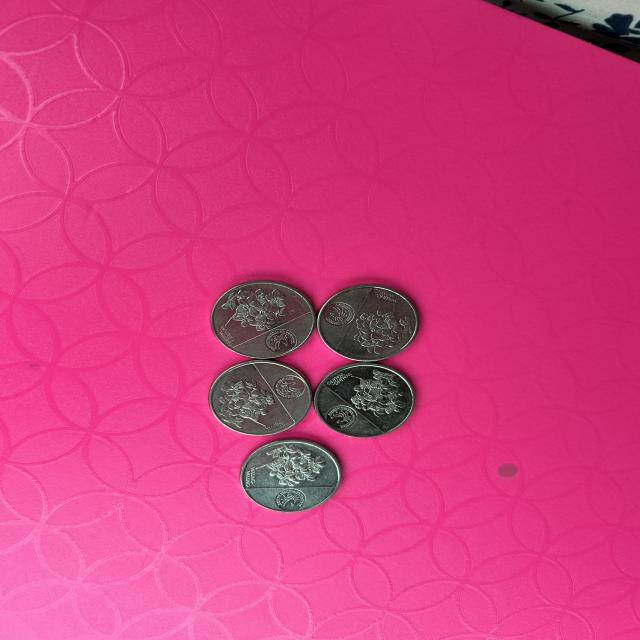1_New_Back: (255, 442, 329, 490), (212, 376, 268, 428), (340, 369, 404, 414), (360, 303, 411, 353), (223, 290, 280, 326)
